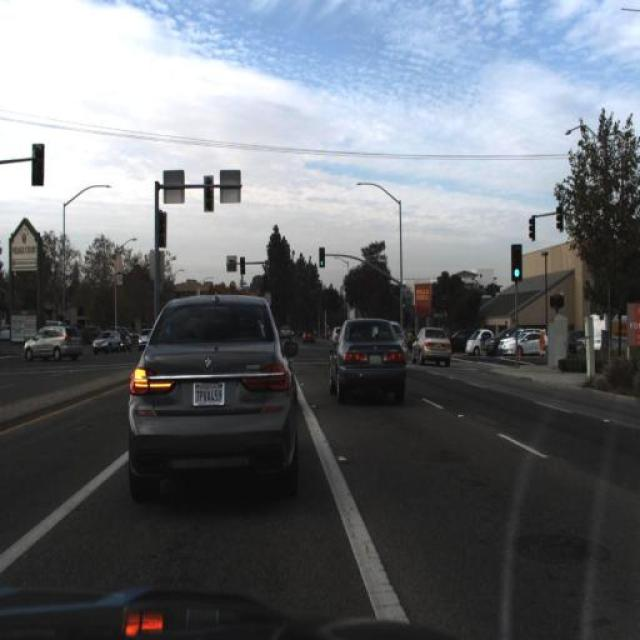car: (131, 302, 293, 488), (331, 313, 428, 426), (23, 322, 82, 368), (410, 323, 451, 371), (500, 328, 552, 357), (465, 322, 494, 358), (93, 326, 122, 349), (299, 322, 317, 346), (275, 316, 291, 342), (136, 326, 150, 350)
trafficLight-Green: (200, 172, 215, 212), (551, 197, 565, 237), (32, 144, 44, 188), (156, 212, 169, 246), (525, 216, 537, 242)
trafficLight-GreenLeft: (510, 244, 521, 280), (316, 244, 328, 270), (258, 274, 266, 294), (239, 255, 246, 277)
